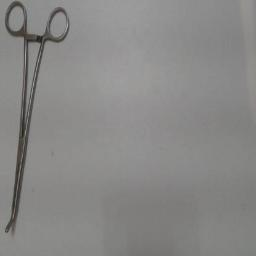Lahey Forceps: (2, 2, 74, 238)
